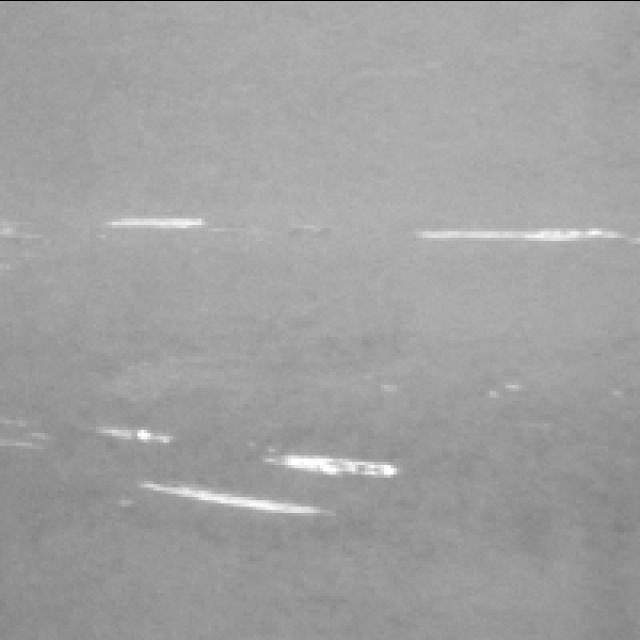scratches: (129, 486, 337, 516), (410, 224, 620, 248), (264, 446, 394, 480), (107, 200, 211, 238), (88, 417, 176, 458)
